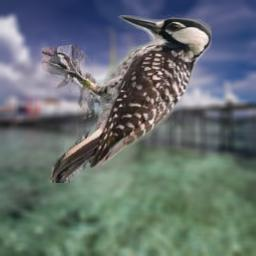Woodpecker: (42, 15, 212, 183)
